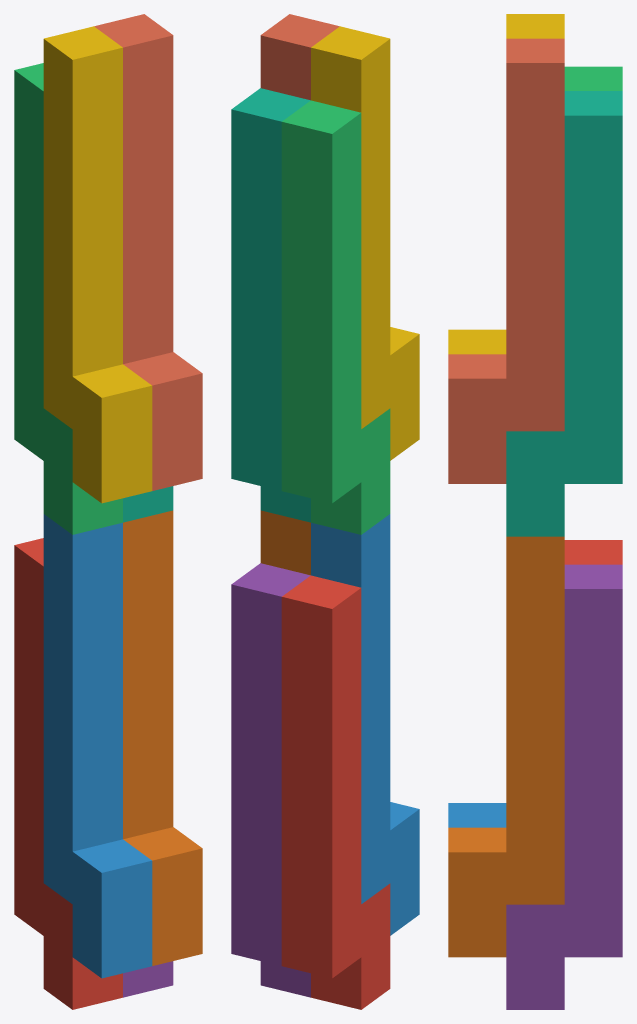
The model's file is tiling.obj.
3 renders of one model, left to right at view 1: azimuth 30°, elevation 25°; view 2: azimuth 150°, elevation 25°; view 3: azimuth 270°, elevation 25°, orthographic.
Parts seen in each view (by area): view 1: copy_1_domain_4, copy_1_domain_2, copy_1_domain_8, copy_1_domain_6, copy_1_domain_1, copy_1_domain_3, copy_1_domain_5, copy_1_domain_7; view 2: copy_1_domain_1, copy_1_domain_3, copy_1_domain_7, copy_1_domain_5, copy_1_domain_4, copy_1_domain_2, copy_1_domain_8, copy_1_domain_6; view 3: copy_1_domain_8, copy_1_domain_5, copy_1_domain_6, copy_1_domain_7, copy_1_domain_4, copy_1_domain_1, copy_1_domain_2, copy_1_domain_3.
Part boxes in pixels (x1,y1,x2,y2): copy_1_domain_4: (43,26,152,503); copy_1_domain_2: (43,514,152,978); copy_1_domain_8: (94,14,202,490); copy_1_domain_6: (123,510,202,965); copy_1_domain_1: (14,538,122,1009); copy_1_domain_3: (14,63,122,534); copy_1_domain_5: (123,961,173,997); copy_1_domain_7: (123,486,173,522); copy_1_domain_1: (281,575,390,1009); copy_1_domain_3: (281,100,390,534); copy_1_domain_7: (231,88,310,522); copy_1_domain_5: (231,563,310,997); copy_1_domain_4: (311,26,419,460); copy_1_domain_2: (311,514,419,935); copy_1_domain_8: (260,14,339,100); copy_1_domain_6: (260,510,310,575); copy_1_domain_8: (448,38,564,483); copy_1_domain_5: (506,564,622,1009); copy_1_domain_6: (448,536,564,957); copy_1_domain_7: (506,91,622,536); copy_1_domain_4: (448,14,564,354); copy_1_domain_1: (564,540,622,564); copy_1_domain_2: (448,803,506,827); copy_1_domain_3: (564,66,622,90).
Size of the model in its own units: 2 by 18 by 3.
